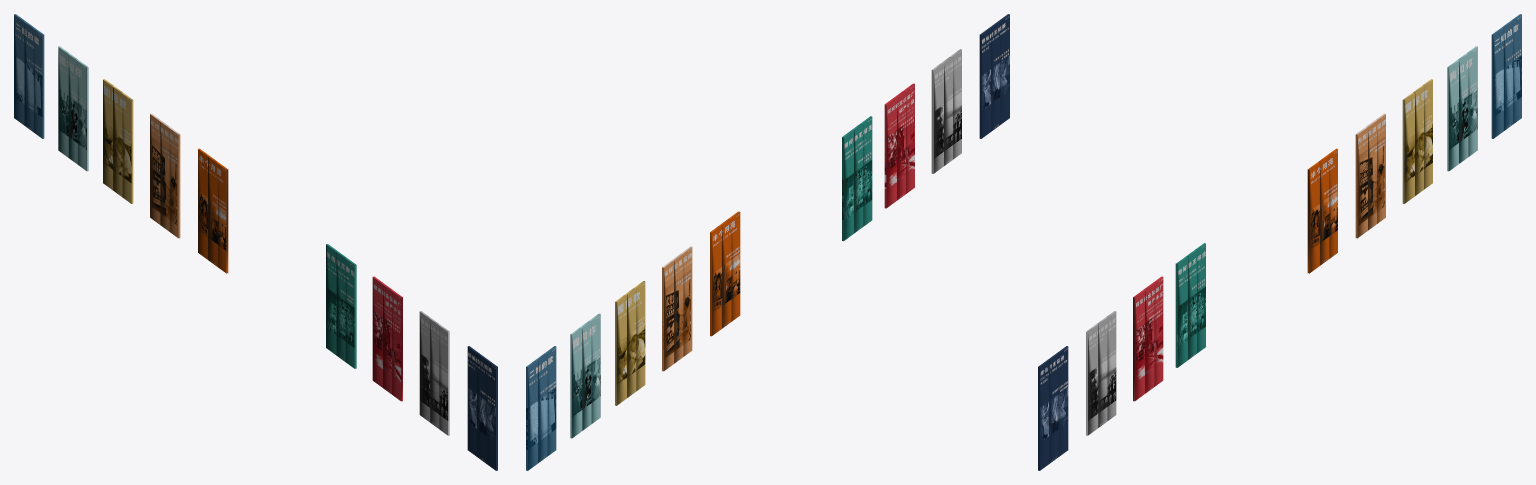
File: CDHB.glb
3 renders of one model, left to right at view 1: azimuth 30°, elevation 25°; view 2: azimuth 150°, elevation 25°; view 3: azimuth 330°, elevation 25°, orthographic.
Parts seen in each view (by area): view 1: Plane.006, Plane.008, Plane.003, Plane.005, Plane.007, Plane.009, Plane.001, Plane.002, Plane.004; view 2: Plane.006, Plane.008, Plane.003, Plane.005, Plane.007, Plane.009, Plane.001, Plane.002, Plane.004; view 3: Plane.006, Plane.008, Plane.003, Plane.004, Plane.005, Plane.007, Plane.009, Plane.001, Plane.002.
Part boxes in pixels (x1,y1,x2,y2): Plane.006: [150, 113, 180, 238]; Plane.008: [58, 46, 88, 171]; Plane.003: [372, 276, 402, 401]; Plane.005: [198, 148, 228, 273]; Plane.007: [103, 79, 133, 203]; Plane.009: [419, 311, 449, 435]; Plane.001: [467, 346, 497, 470]; Plane.002: [14, 14, 44, 138]; Plane.004: [326, 244, 356, 368]; Plane.006: [662, 246, 692, 371]; Plane.008: [570, 313, 600, 438]; Plane.003: [884, 83, 914, 208]; Plane.005: [710, 211, 740, 336]; Plane.007: [615, 281, 645, 405]; Plane.009: [931, 49, 961, 173]; Plane.001: [979, 14, 1009, 138]; Plane.002: [526, 346, 556, 470]; Plane.004: [842, 116, 872, 241]; Plane.006: [1355, 113, 1385, 238]; Plane.008: [1447, 46, 1477, 171]; Plane.003: [1133, 276, 1163, 401]; Plane.004: [1175, 243, 1205, 367]; Plane.005: [1307, 148, 1337, 273]; Plane.007: [1402, 79, 1432, 203]; Plane.009: [1086, 311, 1116, 435]; Plane.001: [1038, 346, 1068, 470]; Plane.002: [1491, 14, 1521, 138].
Bounding box in the file's own units: 0.018 × 0.4896 × 4.11.
Materials: 5 (5 with a texture image).
